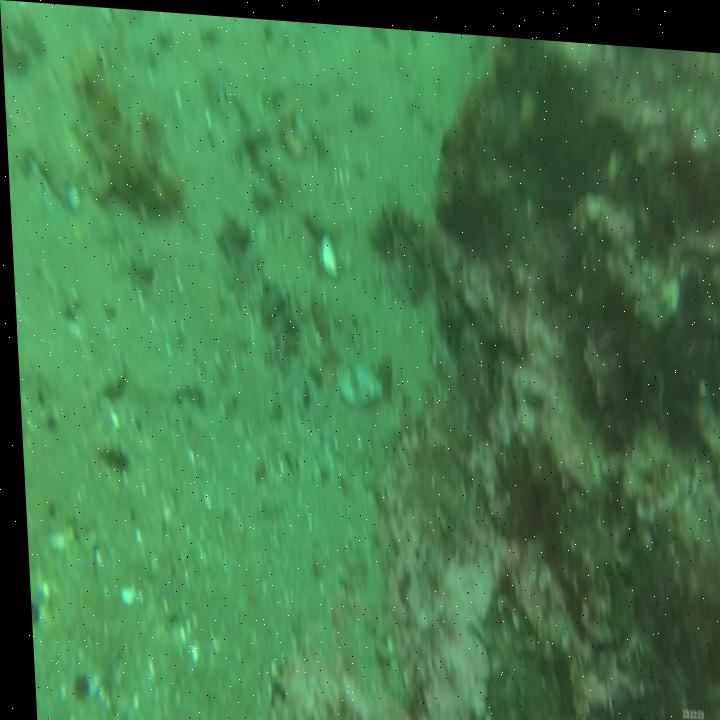holothurian: (64, 41, 185, 225), (366, 188, 433, 302)
